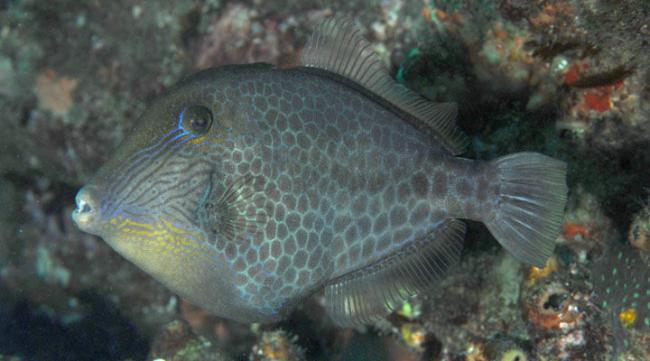fish: (69, 18, 570, 325)
